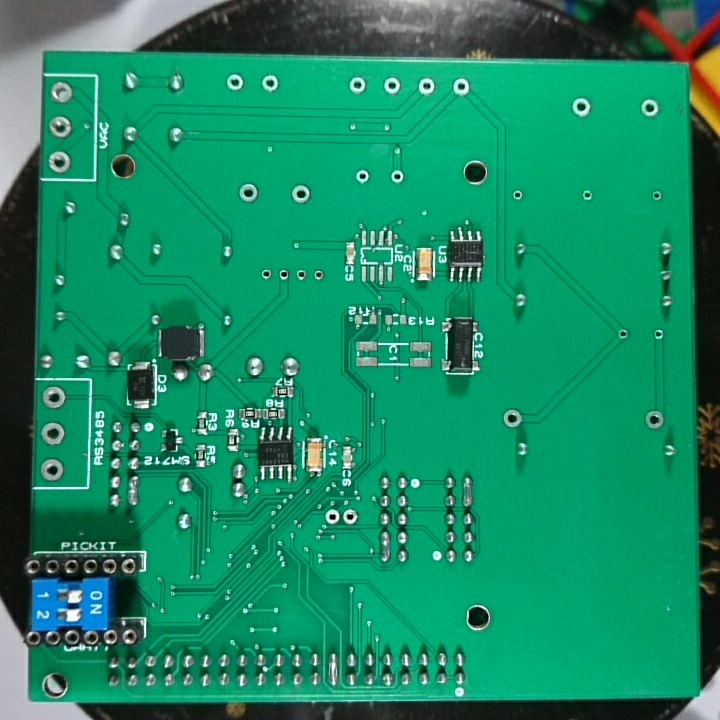F: (40, 383, 67, 413), (40, 420, 67, 449), (38, 456, 67, 483), (45, 149, 73, 175), (47, 80, 74, 106), (47, 114, 73, 140), (569, 94, 593, 120), (500, 405, 524, 431), (639, 95, 662, 122), (642, 407, 665, 434), (380, 73, 404, 98), (450, 75, 472, 100), (235, 181, 259, 203), (290, 182, 312, 205), (416, 75, 438, 97), (225, 72, 247, 94), (347, 74, 368, 96), (260, 73, 280, 96), (341, 507, 361, 528), (323, 507, 341, 528), (353, 167, 372, 186), (389, 168, 407, 187), (310, 265, 325, 283), (650, 326, 665, 343), (579, 187, 594, 203), (510, 187, 525, 203), (276, 268, 291, 283), (294, 267, 310, 281), (650, 188, 663, 205), (616, 326, 630, 340), (260, 266, 273, 281)
P: (324, 650, 340, 688), (377, 528, 393, 565), (459, 474, 474, 507), (125, 473, 140, 506)
